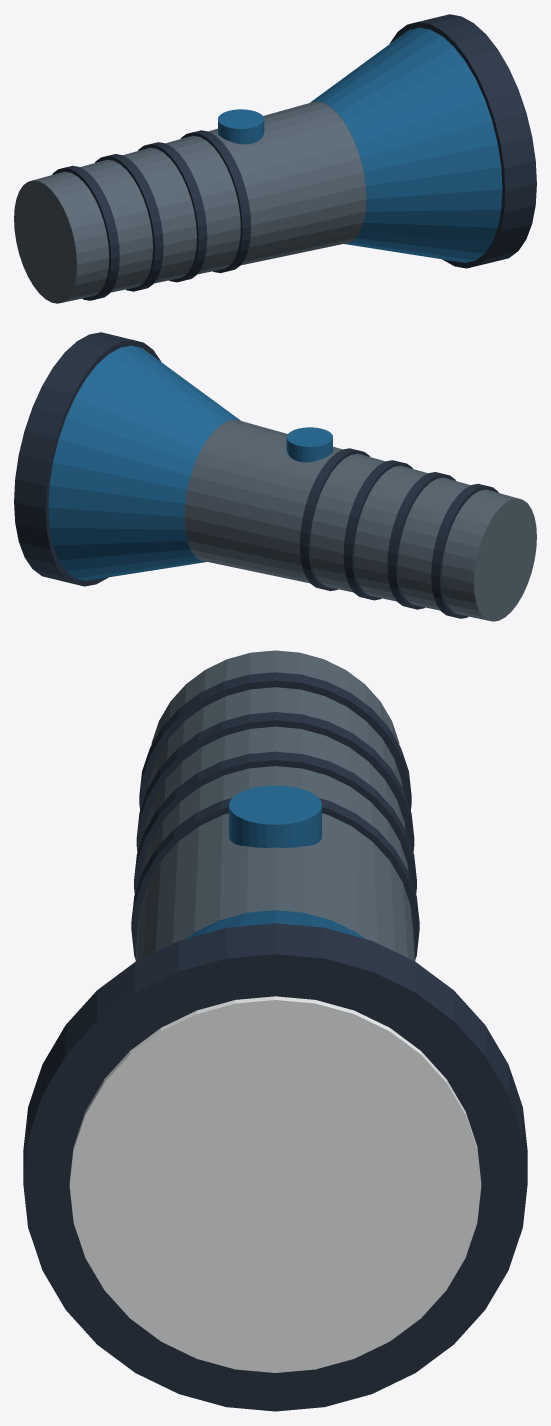
The model's file is flashlight.glb.
3 renders of one model, top to bottom at view 1: azimuth 30°, elevation 25°; view 2: azimuth 150°, elevation 25°; view 3: azimuth 270°, elevation 25°, orthographic. The views are drawn at different scales.
Visible parts, largest first — view 1: grip, head, bezel, grip ring 3, grip ring 2, grip ring 1, grip ring 0, switch; view 2: grip, head, bezel, grip ring 3, grip ring 2, grip ring 1, grip ring 0, switch; view 3: lens, bezel, grip, switch, grip ring 0, grip ring 1, grip ring 2, grip ring 3, head.
Boxes of the visible parts, <box> form: grip: <box>14,101,366,303</box>; head: <box>310,27,502,262</box>; bezel: <box>389,14,536,268</box>; grip ring 3: <box>180,130,250,273</box>; grip ring 2: <box>138,142,207,282</box>; grip ring 1: <box>95,154,163,291</box>; grip ring 0: <box>52,165,119,300</box>; switch: <box>218,109,264,144</box>; grip: <box>184,419,536,621</box>; head: <box>48,345,240,580</box>; bezel: <box>14,332,161,586</box>; grip ring 3: <box>300,448,370,591</box>; grip ring 2: <box>343,460,412,600</box>; grip ring 1: <box>387,472,455,609</box>; grip ring 0: <box>431,483,498,618</box>; switch: <box>286,427,332,462</box>; lens: <box>69,996,481,1372</box>; bezel: <box>23,923,527,1411</box>; grip: <box>135,650,415,961</box>; switch: <box>229,785,321,847</box>; grip ring 0: <box>139,672,411,810</box>; grip ring 1: <box>136,712,414,852</box>; grip ring 2: <box>134,751,416,894</box>; grip ring 3: <box>131,798,419,959</box>; head: <box>186,910,364,938</box>.
Size of the model in its own units: 1.5 by 0.76 by 0.76.
